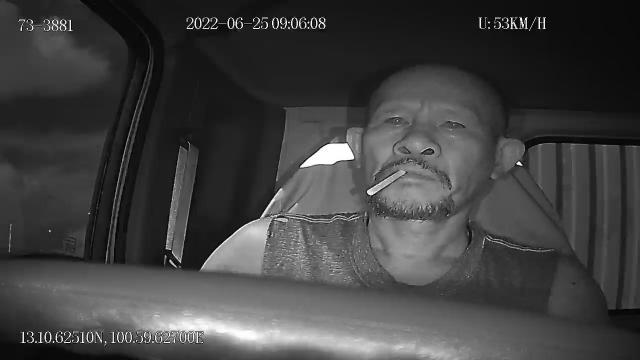SafeDriving: (432, 108, 472, 140), (378, 108, 414, 134)
Smoking: (364, 169, 406, 197)
